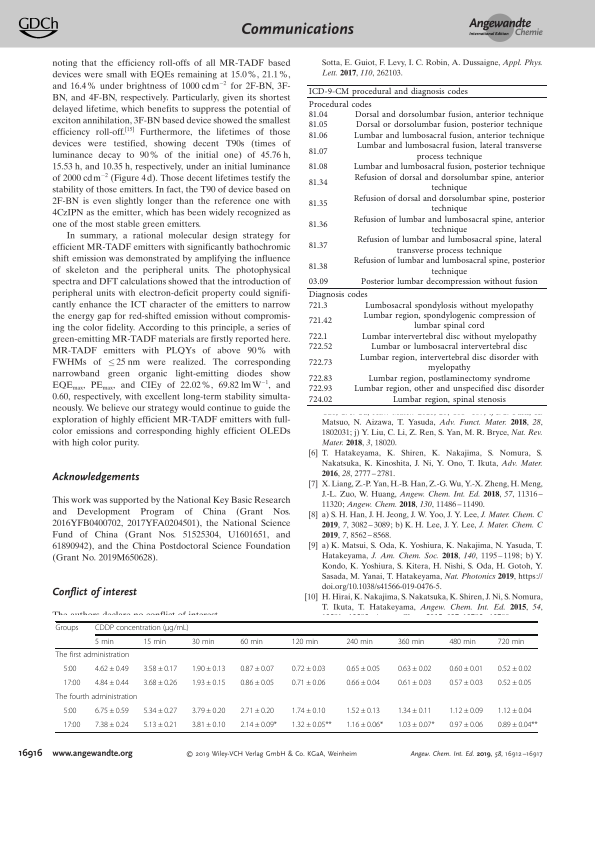borderless: (306, 83, 547, 405), (54, 620, 538, 732)
cell: (352, 256, 546, 278), (356, 141, 542, 163), (352, 194, 546, 215), (352, 215, 546, 236), (353, 173, 545, 194), (356, 236, 542, 257), (359, 353, 539, 374), (362, 311, 536, 332), (352, 162, 546, 173), (353, 131, 545, 142), (353, 384, 545, 395), (354, 110, 544, 121), (360, 277, 538, 288), (361, 332, 537, 343), (355, 121, 543, 131), (307, 87, 468, 98), (370, 342, 528, 353), (364, 301, 534, 311), (367, 374, 531, 384), (392, 395, 506, 405), (94, 624, 190, 633), (55, 692, 138, 702), (55, 650, 130, 660), (307, 290, 368, 301), (307, 100, 372, 110), (291, 720, 332, 730), (497, 720, 538, 730), (239, 720, 278, 730), (345, 720, 384, 730), (397, 720, 435, 730), (94, 664, 130, 674), (142, 664, 178, 674), (239, 664, 275, 674), (345, 664, 381, 674), (448, 664, 484, 674), (94, 678, 130, 688), (142, 678, 178, 688), (239, 678, 275, 688), (345, 678, 381, 688), (448, 678, 484, 688), (94, 706, 130, 716), (142, 706, 178, 716), (239, 706, 275, 716), (345, 706, 381, 716), (448, 706, 484, 716), (94, 720, 130, 730), (142, 720, 178, 730), (448, 720, 484, 730), (191, 664, 226, 674), (291, 664, 326, 674), (397, 664, 432, 674), (497, 664, 532, 674), (191, 678, 226, 688), (291, 678, 326, 688), (397, 678, 432, 688), (497, 678, 532, 688), (191, 706, 226, 716), (291, 706, 326, 716), (397, 706, 432, 716), (497, 706, 532, 716), (191, 720, 226, 730), (307, 316, 333, 327), (307, 342, 333, 353), (307, 358, 333, 369), (307, 384, 333, 395), (345, 637, 374, 646), (448, 637, 477, 646), (307, 374, 333, 384), (307, 395, 333, 405), (291, 637, 319, 646), (397, 637, 425, 646), (497, 637, 525, 646), (307, 277, 329, 288), (307, 110, 328, 121), (307, 131, 328, 142), (307, 162, 328, 173), (307, 178, 328, 189), (307, 199, 328, 210), (307, 220, 328, 231), (307, 332, 328, 343), (142, 637, 167, 646), (239, 637, 264, 646), (55, 624, 79, 633), (191, 637, 215, 646), (307, 121, 328, 131), (307, 147, 328, 157), (307, 241, 328, 251), (307, 262, 328, 272), (307, 301, 328, 311), (62, 678, 81, 688), (62, 720, 81, 730), (94, 637, 115, 646), (62, 664, 77, 674), (62, 706, 77, 716)
